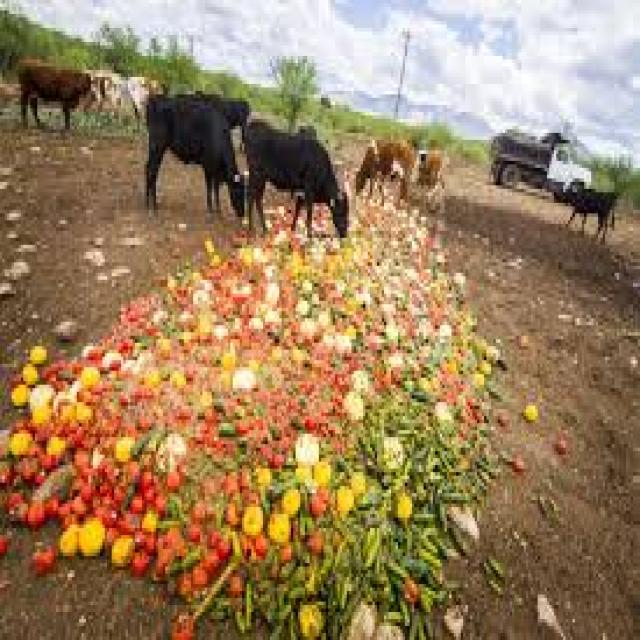food_waste: (31, 365, 448, 589), (257, 232, 448, 620)
